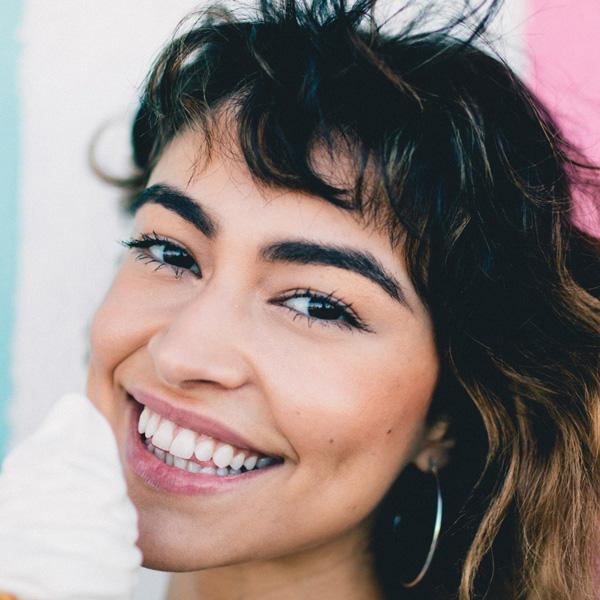Eyes: (263, 279, 376, 344), (126, 225, 212, 289)
